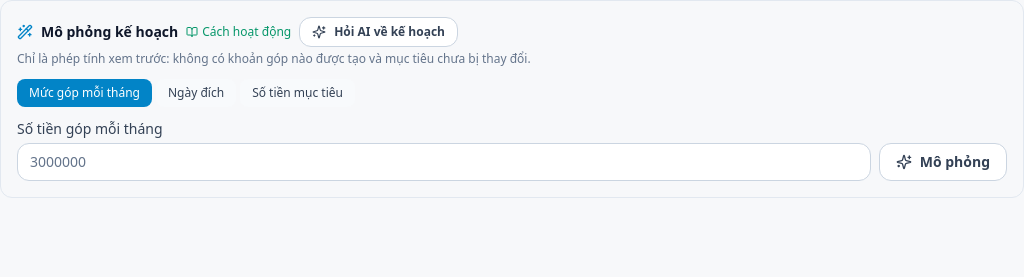
GoalPlanSimulator — read-only simulation › shows the API error when the simulation is rejected
The image size is (1024, 277).
Type "2000000" into the field labelled "Số tiền góp mỗi tháng" at (444,162), box 17,143 -> 871,181
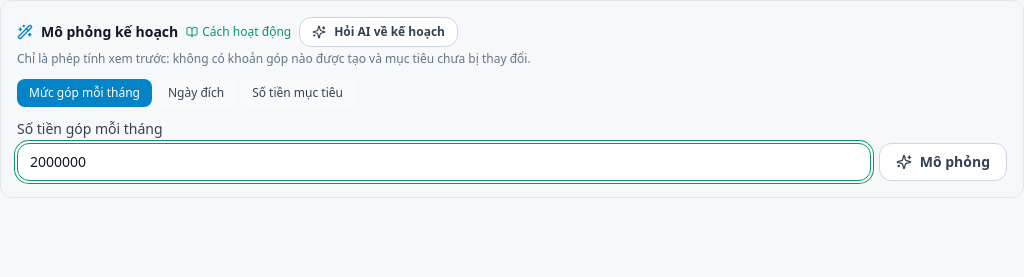
Click the button "Mô phỏng" at (943,162), box 879,143 -> 1007,181
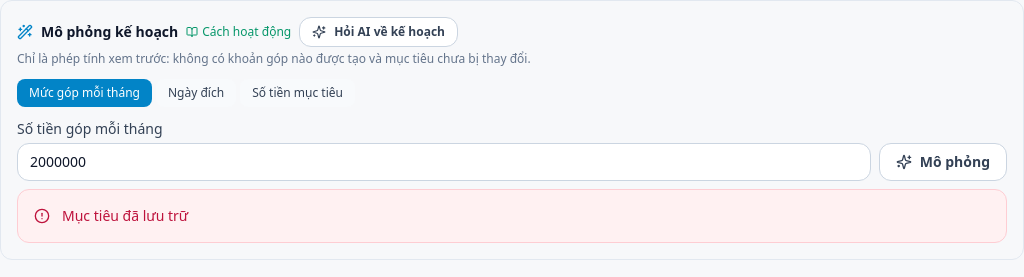
Result: the text "Mục tiêu đã lưu trữ" is shown at 62,206 -> 188,225
